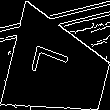L_E: (35, 47, 82, 92)
